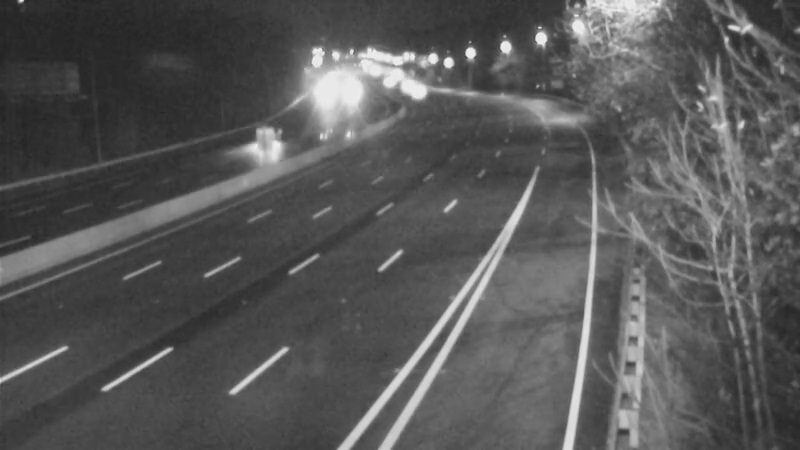vehicle: (361, 59, 411, 109), (380, 62, 430, 112), (388, 64, 438, 114), (250, 118, 300, 168), (298, 73, 348, 123)
